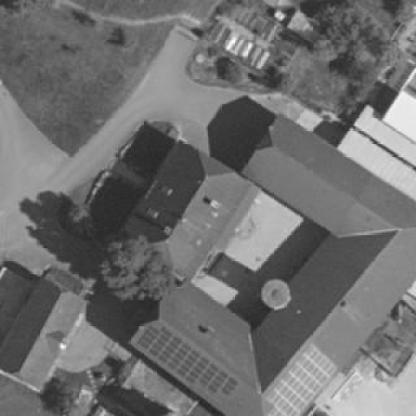solar-pv-panel: (137, 324, 240, 398), (265, 344, 338, 416)
